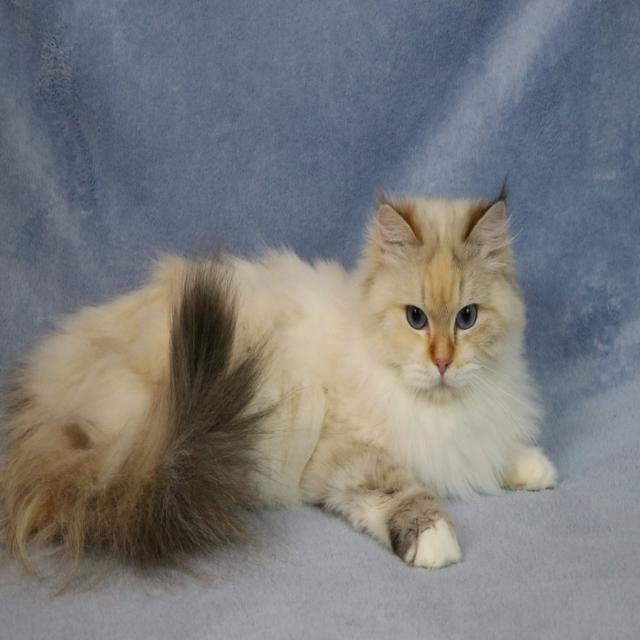Neva Masquerade: (0, 184, 563, 592)
